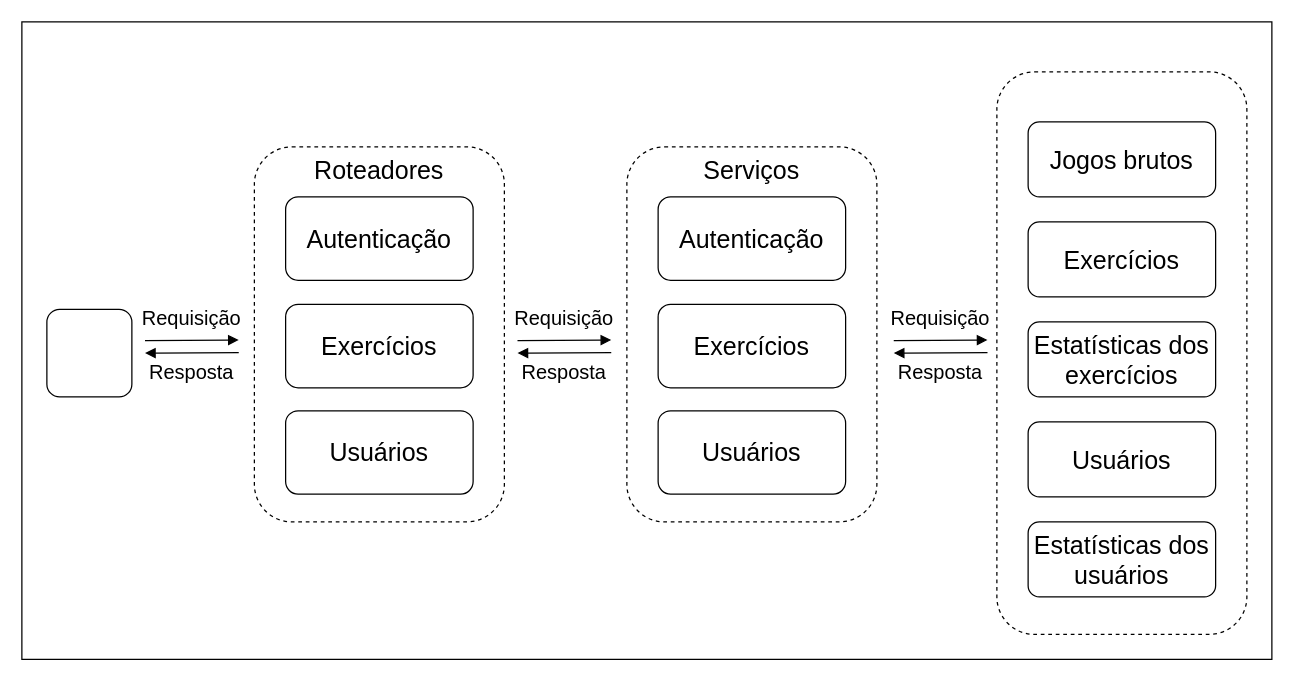
Image size: 1294x681. Some labels were removed from this diagram. Each missing label, with the box of its shape:
Cliente: (46, 308, 132, 397)
Repositórios: (996, 71, 1247, 634)
